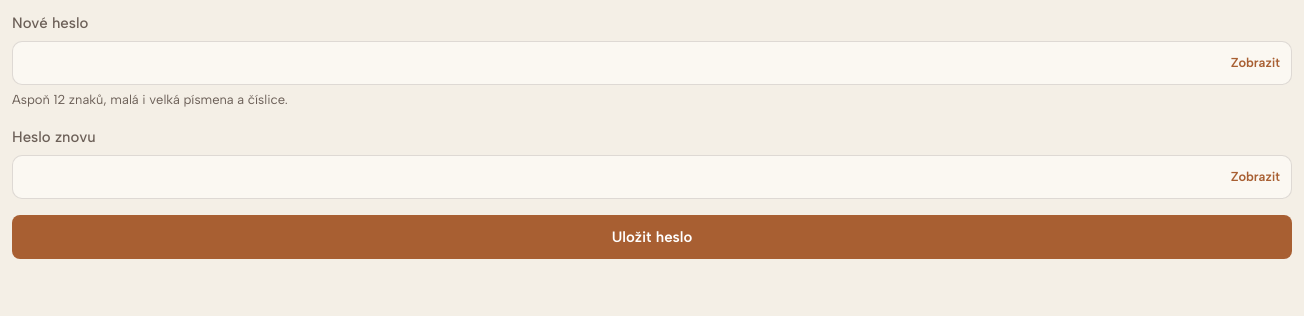
Scenario: PasswordForm – nastavení hesla › nutné znovu přihlášení: poradí přihlásit se odkazem a hned heslo nastavit
Type "Kozena-Dilna-2026" into the password field labelled "Nové heslo" at (652, 63), box [12,41,1292,85]
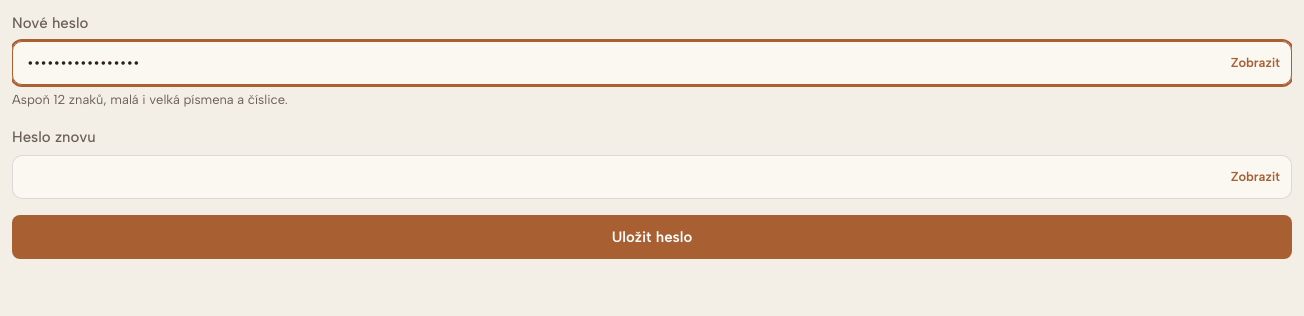
Type "Kozena-Dilna-2026" into the password field labelled "Heslo znovu" at (652, 177), box [12,155,1292,199]
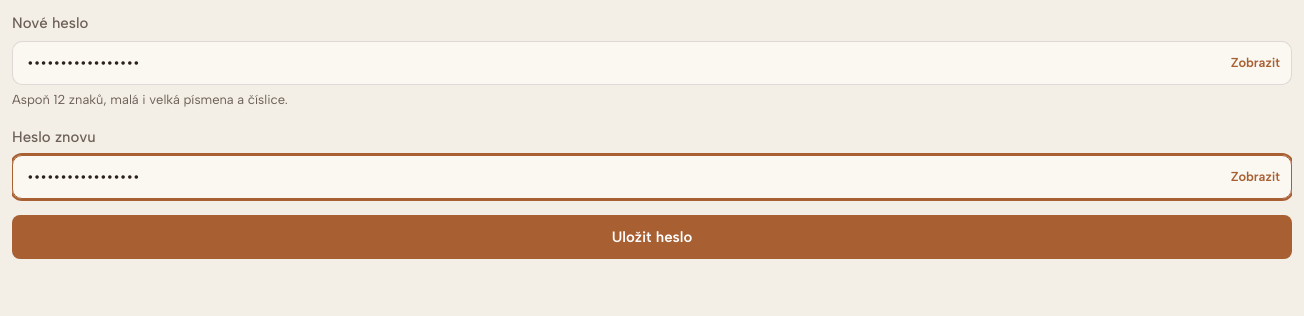
Click the button "Uložit heslo" at (652, 237), box [12,215,1292,259]
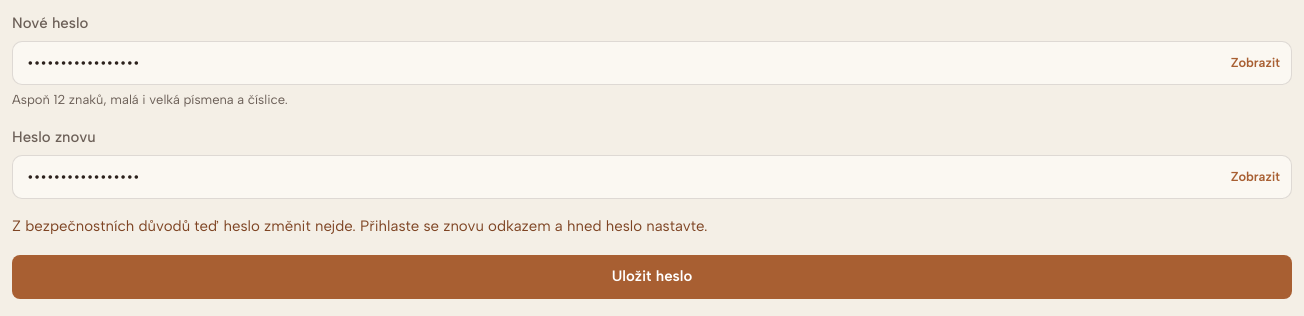
Check: the message shows "Přihlaste se znovu odkazem a hned heslo nastavte.", box [12,217,708,235]
